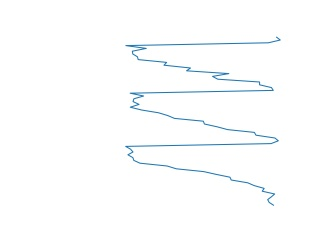distributaryMouthBar: (122, 33, 283, 208)
